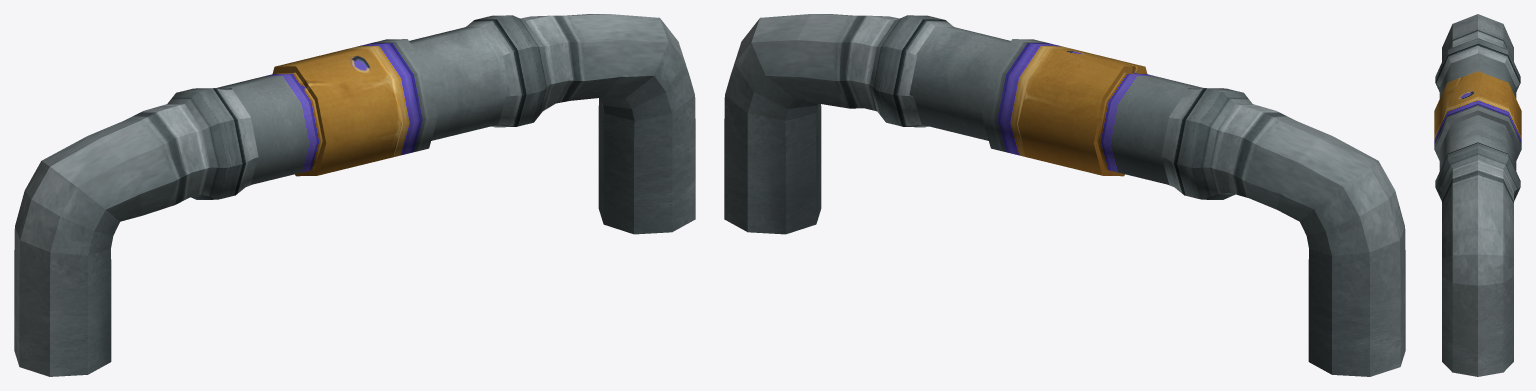
File: desert_N_pipe.FBX
The picture shows the model from 3 angles, left to right: view 1: azimuth 30°, elevation 25°; view 2: azimuth 150°, elevation 25°; view 3: azimuth 270°, elevation 25°; orthographic projection. The views are drawn at different scales.
Parts seen in each view (by area): view 1: Cylinder037; view 2: Cylinder037; view 3: Cylinder037.
Part boxes in pixels (bbox=[...]): Cylinder037: bbox=[14, 14, 695, 376]; Cylinder037: bbox=[724, 14, 1405, 376]; Cylinder037: bbox=[1434, 14, 1521, 376].
Size of the model in its own units: 59.77 by 19.85 by 9.35.
